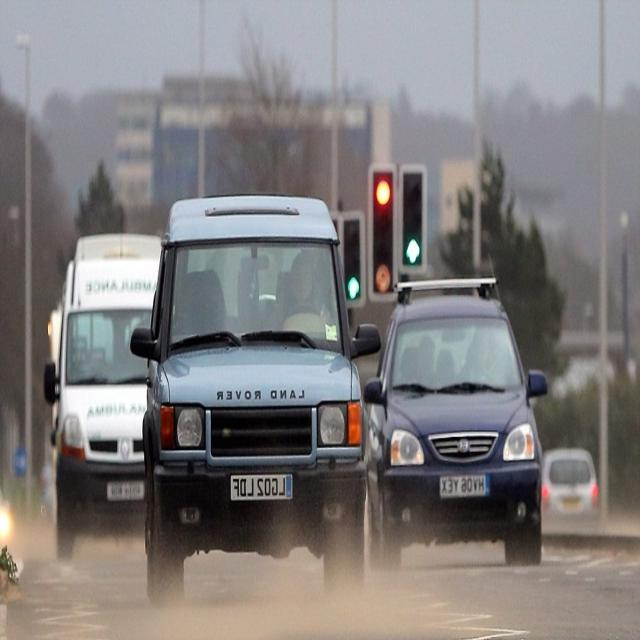car: (133, 198, 379, 599), (367, 280, 549, 568), (46, 235, 168, 556), (543, 450, 599, 518)
